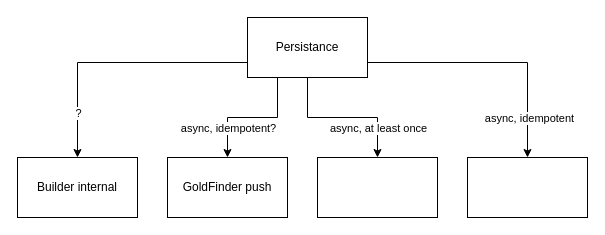
This 605x235 diagram has some shape labels left out. The shapes that lost their labels are listed below. From the top down, each one's centre as x and y in pixels, then its label:
the point at 377,187: Webhook
the point at 527,187: Statman
